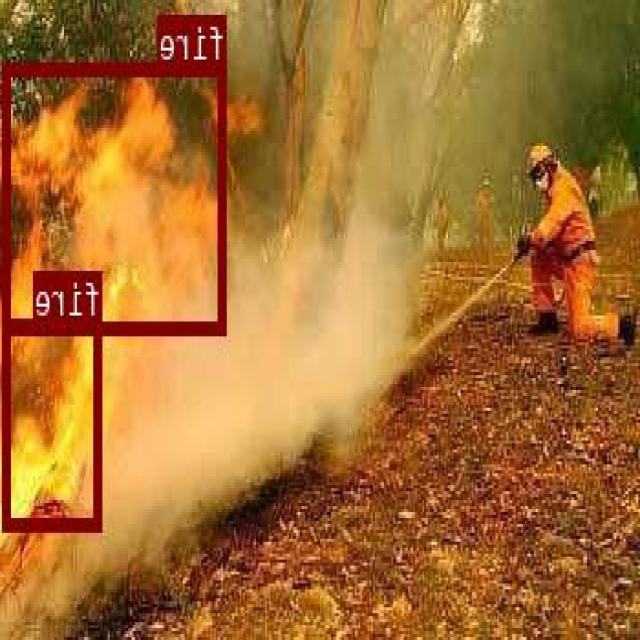fire: (5, 61, 228, 332), (5, 317, 104, 528)
